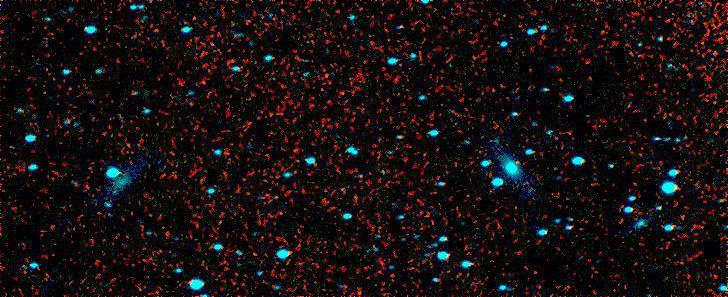star: (503, 148, 533, 178)
